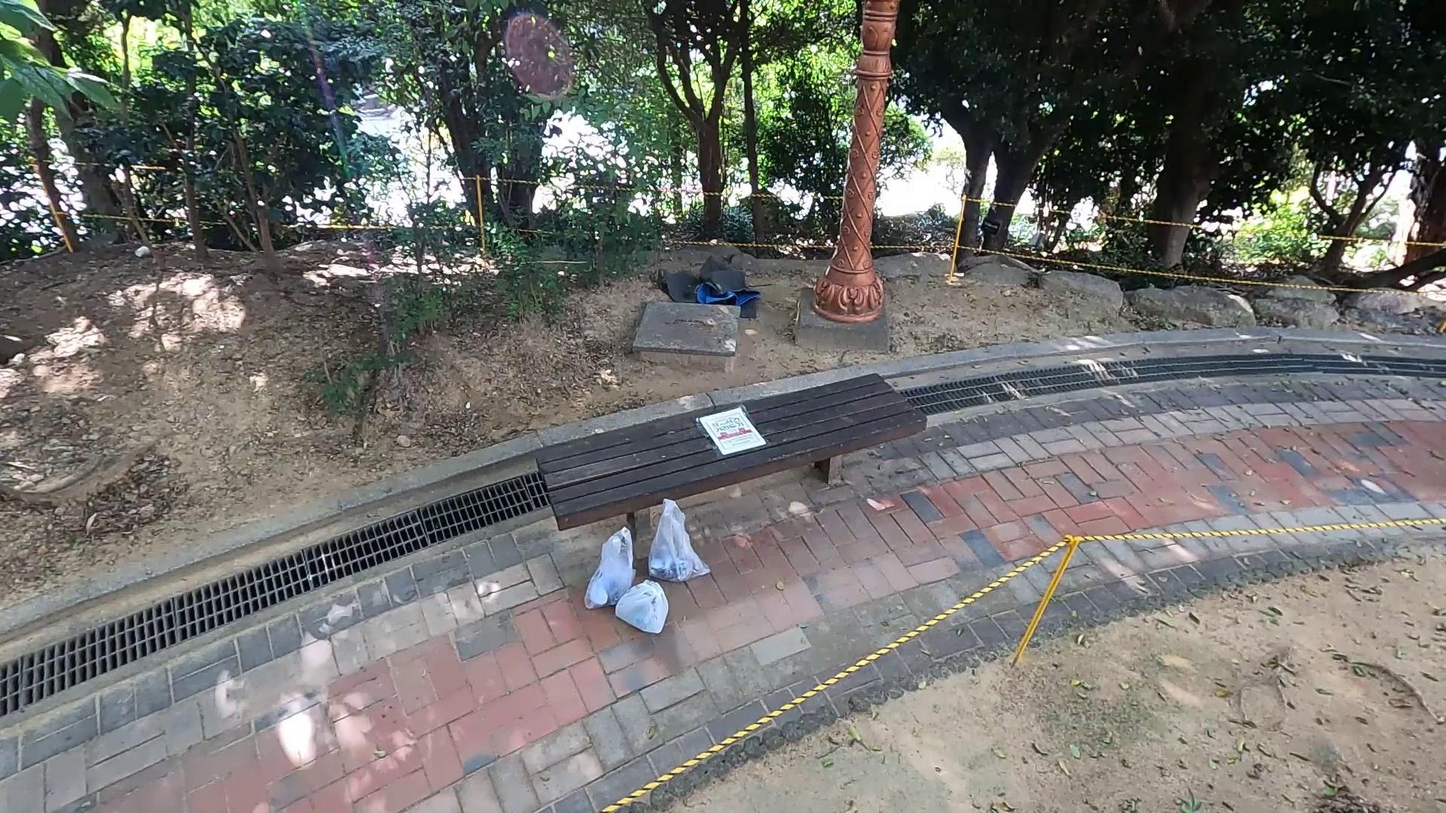trash: (647, 247, 762, 319), (645, 499, 717, 587), (583, 525, 643, 613), (612, 576, 673, 638)
